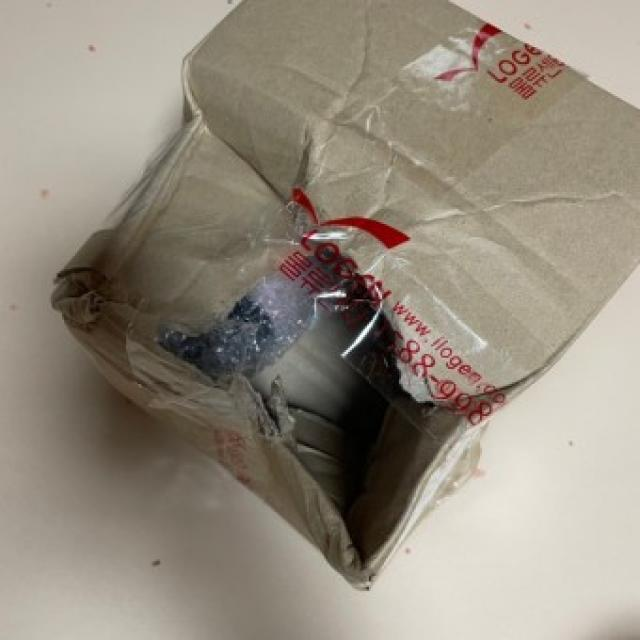damaged: (166, 288, 289, 418)
